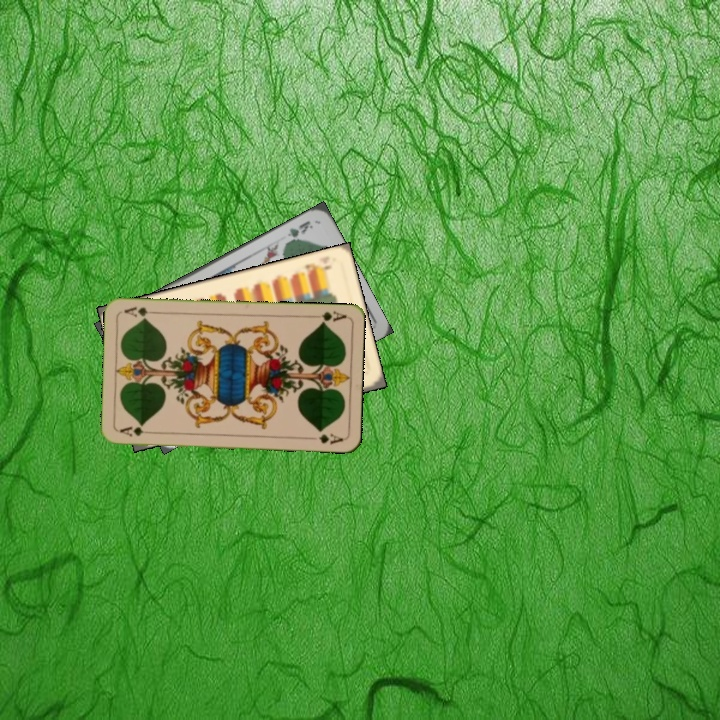E10: (301, 259, 334, 277)
GA: (308, 307, 348, 326), (116, 422, 156, 439)
GK: (282, 217, 315, 246)
